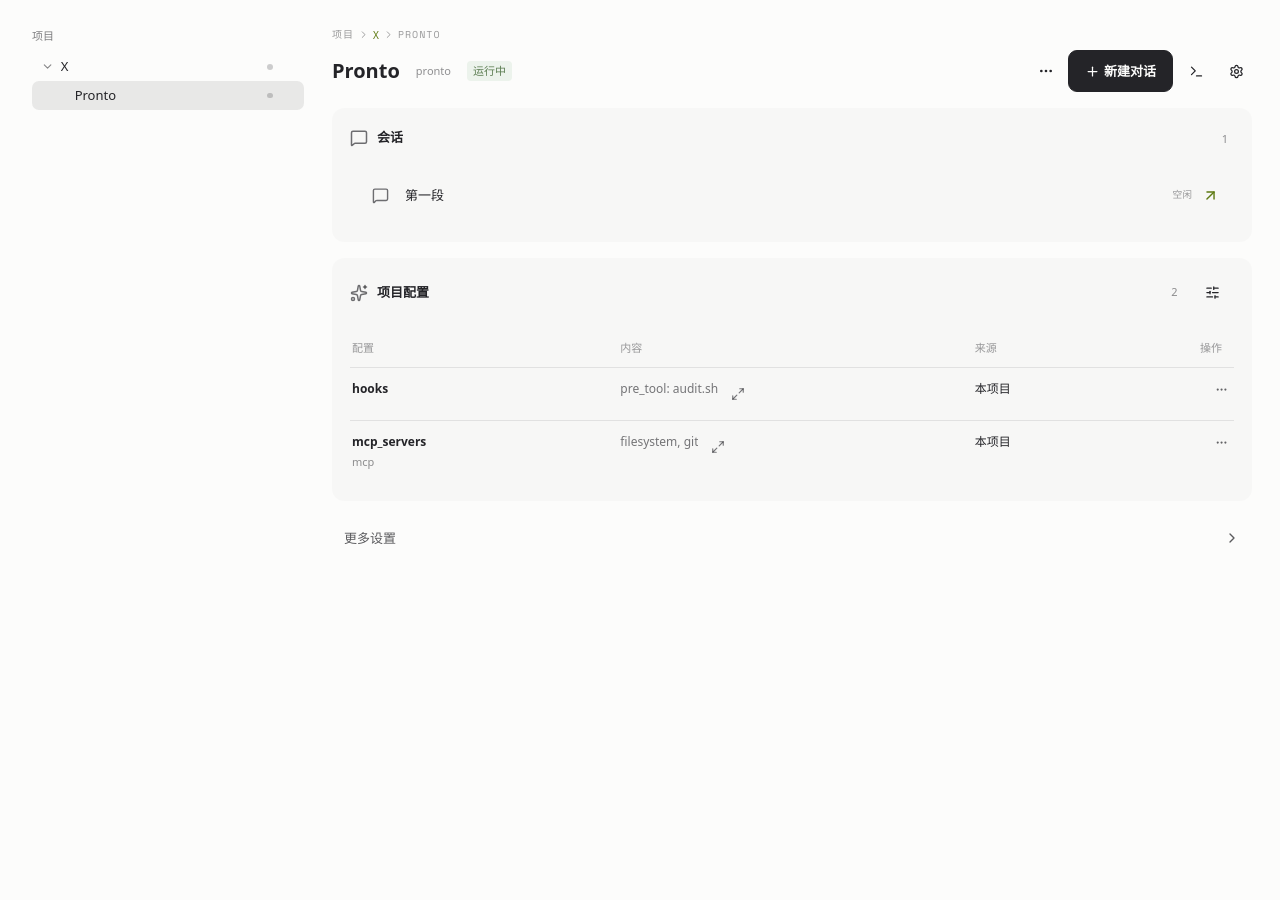
项目详情页 › 能力分区的隐藏规则 › 详情图标打开完整内容，关闭后恢复原来的列表位置与焦点
Expected: the text "pre_tool: audit.sh" is shown, [620,380,718,398]
Expected: the text "filesystem, git" is shown, [620,433,698,452]
Click the button named "查看完整内容" next to "pre_tool: audit.sh". click: (738, 394)
box: [724,380,752,408]
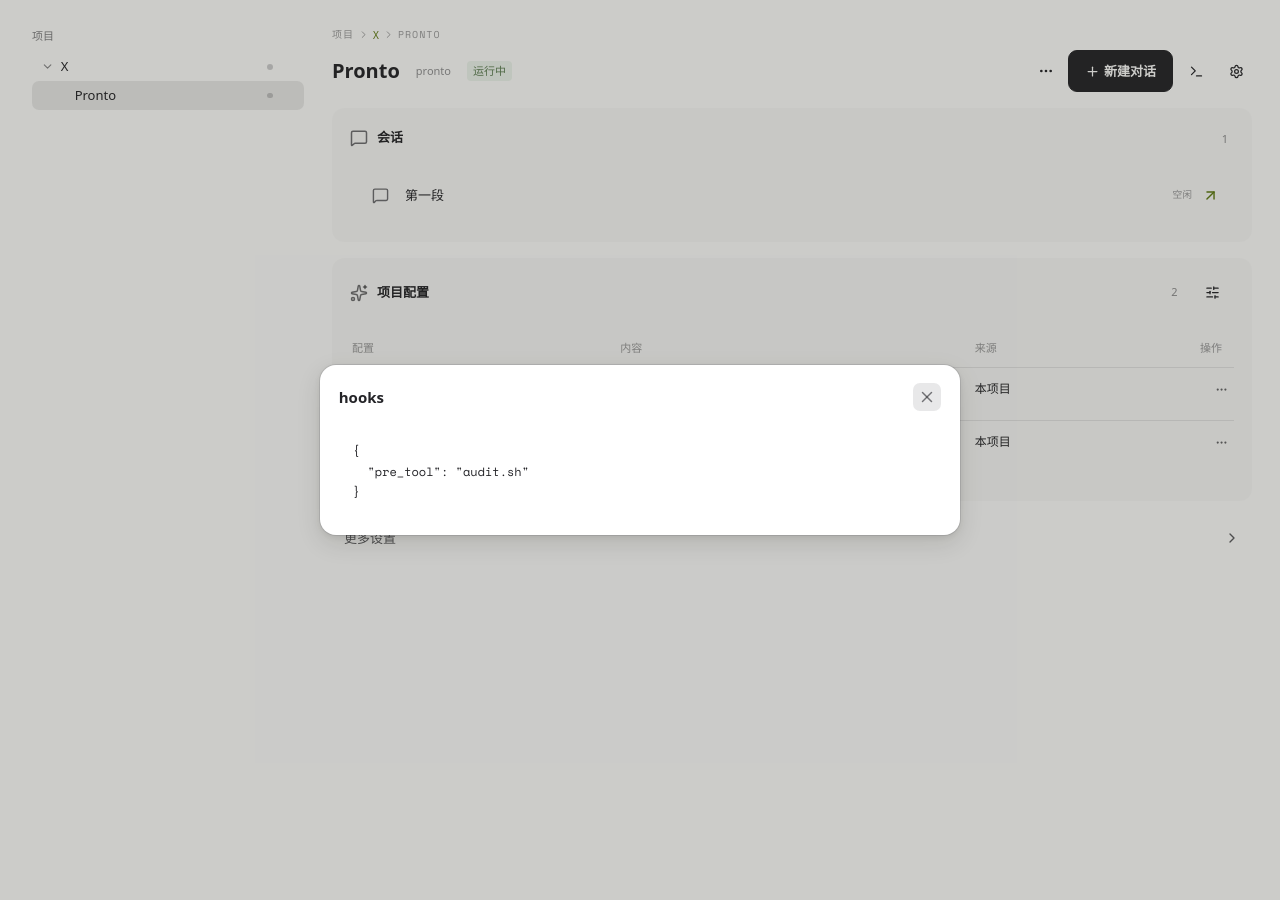
Press Escape
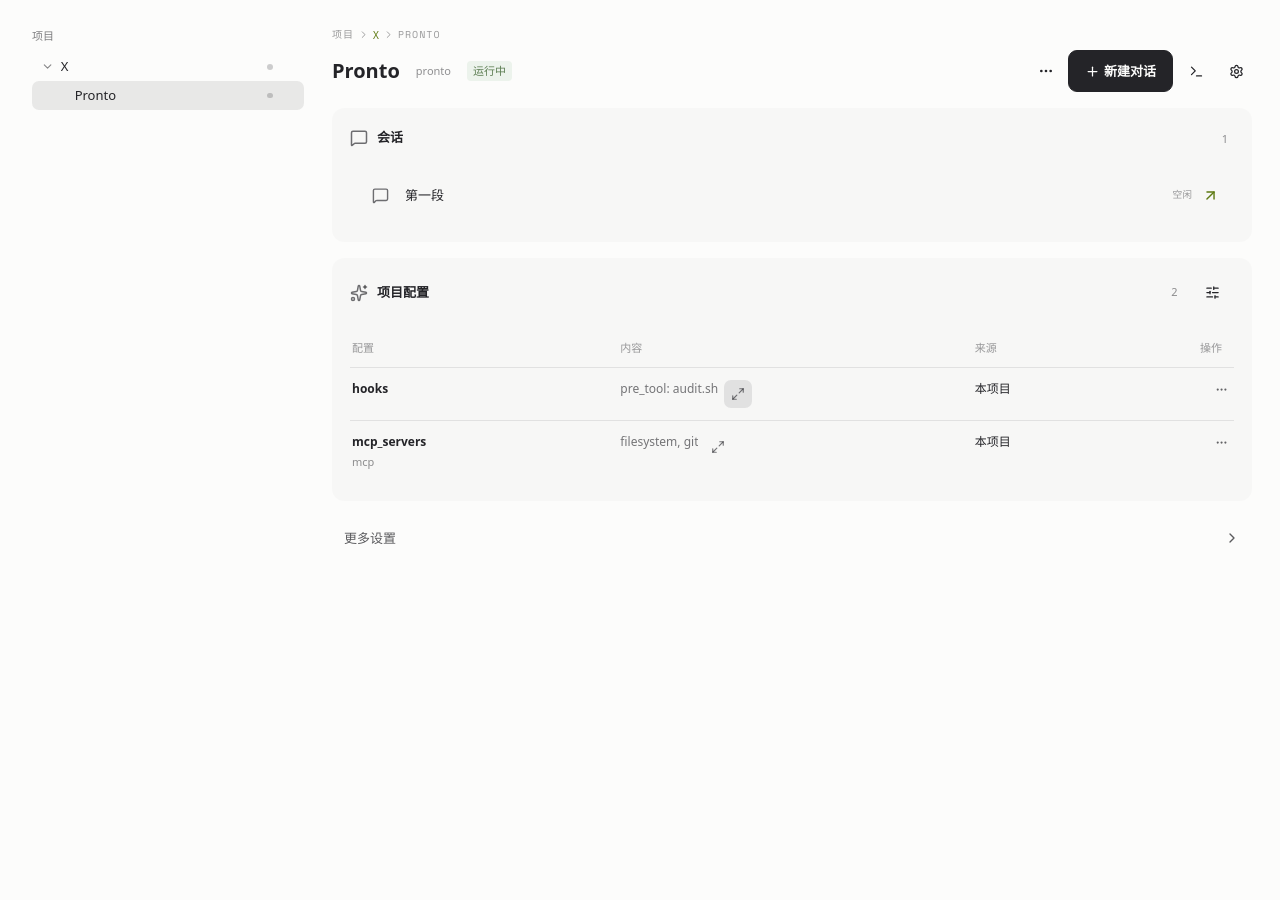
Expected: the dialog is gone
